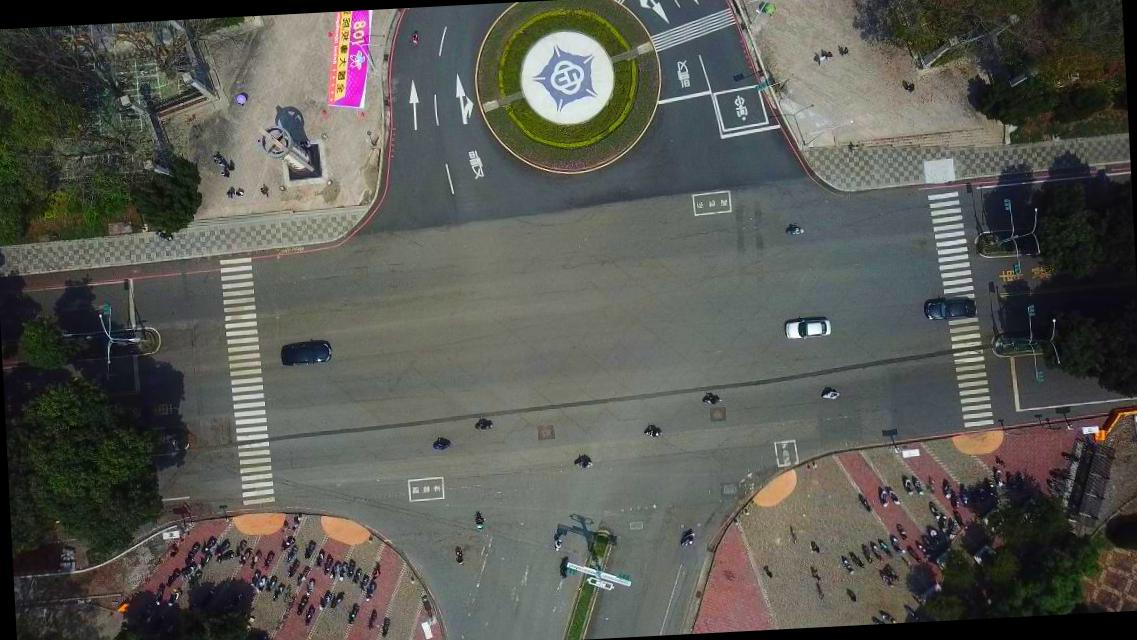vehicle: (279, 338, 333, 368), (922, 296, 976, 322), (784, 316, 831, 341)
